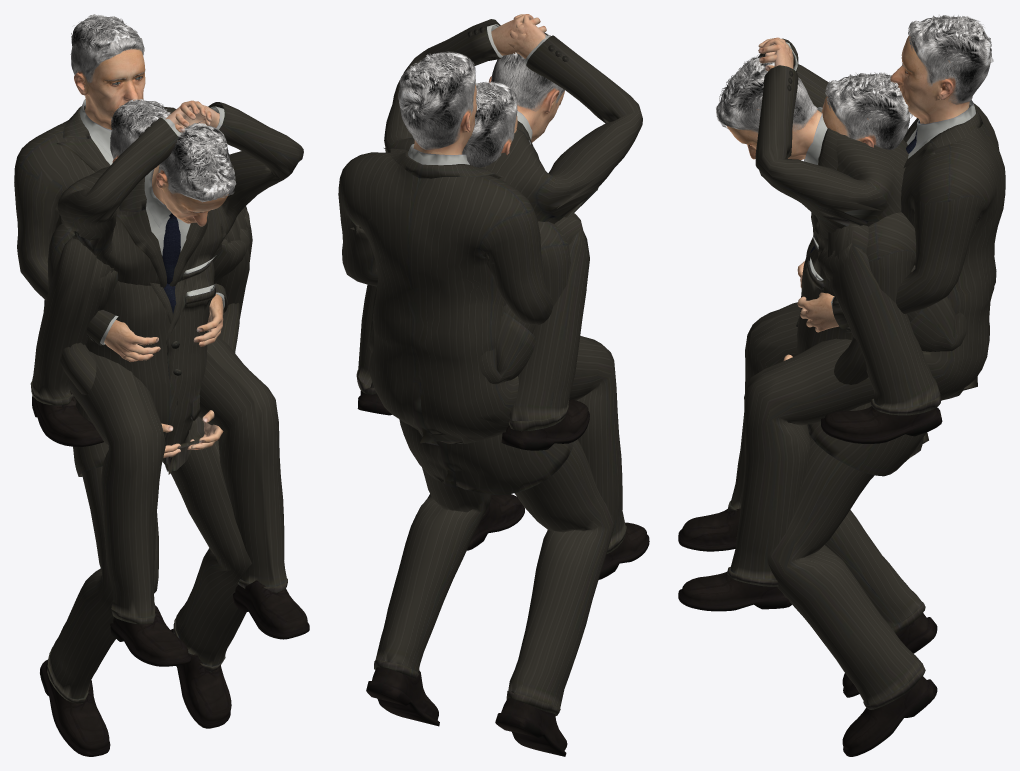
File: civ_alt.glb
3 views of the same model, side by side, from view 1: azimuth 30°, elevation 25°; view 2: azimuth 150°, elevation 25°; view 3: azimuth 270°, elevation 25° (orthographic). The views are drawn at different scales.
Parts seen in each view (by area): view 1: seat, lie, cower; view 2: seat, lie, cower; view 3: seat, lie, cower.
Part boxes in pixels (left/top/right/bottom): seat: left=14, top=14, right=309, bottom=666; lie: left=40, top=99, right=251, bottom=756; cower: left=30, top=100, right=303, bottom=446; seat: left=338, top=51, right=649, bottom=579; lie: left=366, top=81, right=614, bottom=756; cower: left=356, top=14, right=642, bottom=450; seat: left=678, top=14, right=1005, bottom=611; lie: left=767, top=72, right=937, bottom=756; cower: left=716, top=37, right=966, bottom=443.
Size of the model in its own units: 0.6078 by 1.8 by 0.7573.
7 materials, 7 textured.
